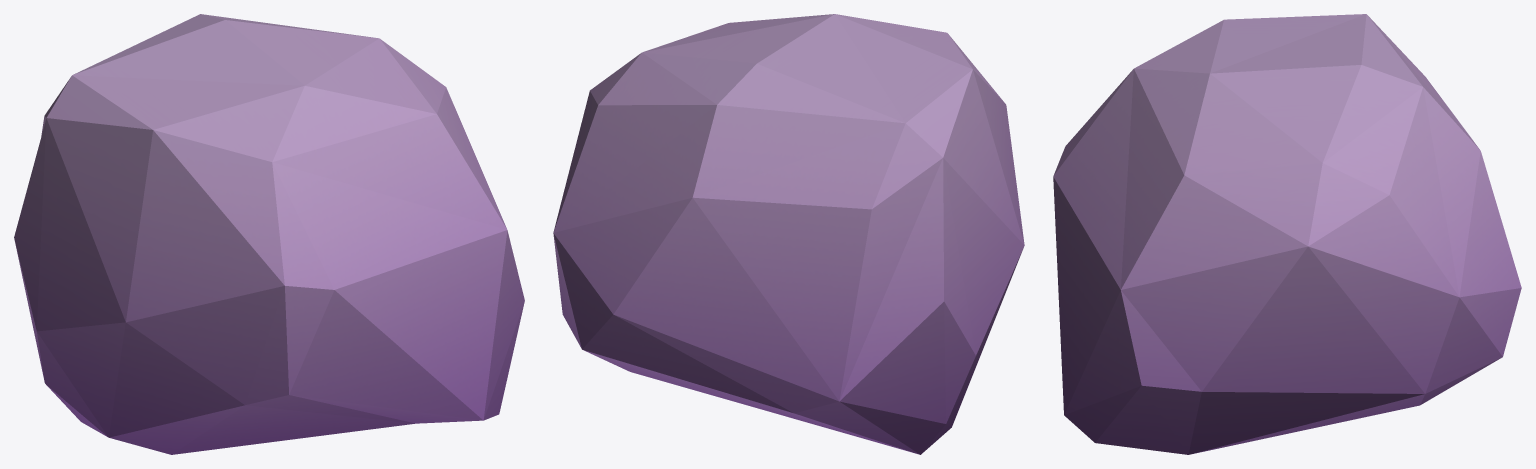
Rendered from Night_Stone_001.FBX.
3 renders of one model, left to right at view 1: azimuth 30°, elevation 25°; view 2: azimuth 150°, elevation 25°; view 3: azimuth 270°, elevation 25°, orthographic. The views are drawn at different scales.
Parts seen in each view (by area): view 1: Night_Stone_001; view 2: Night_Stone_001; view 3: Night_Stone_001.
Boxes of the visible parts, x1,y1,x2,y2 form: Night_Stone_001: (14,14,524,454); Night_Stone_001: (553,14,1024,454); Night_Stone_001: (1053,14,1521,454).
Size of the model in its own units: 281 by 258 by 296.
Materials: 1 (1 with a texture image).
